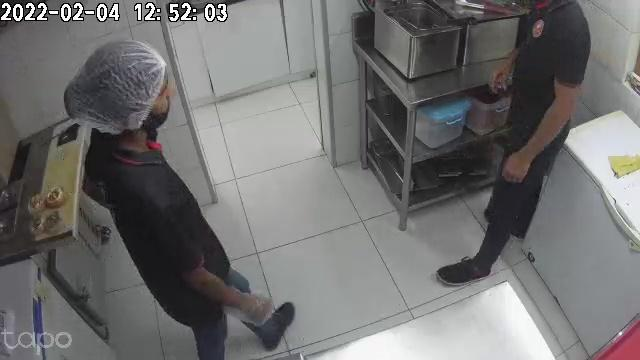no_gloves: (502, 143, 537, 185)
